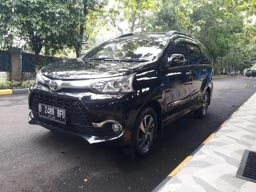plat: (38, 102, 67, 123)
